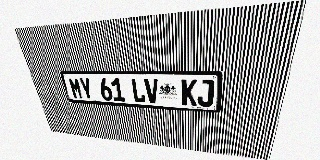1: (110, 78, 125, 102)
6: (98, 78, 113, 101)
J: (197, 79, 214, 107)
K: (182, 79, 197, 106)
L: (131, 78, 146, 103)
M: (68, 77, 84, 99)
V: (144, 78, 159, 104)
Y: (78, 77, 94, 100)
